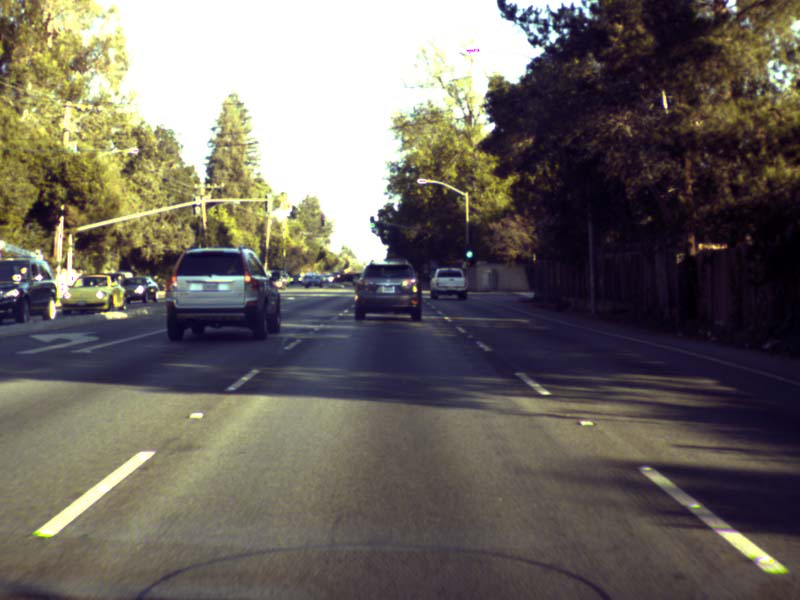Green: (465, 243, 474, 259), (369, 215, 375, 228)
Red: (320, 214, 324, 225)
